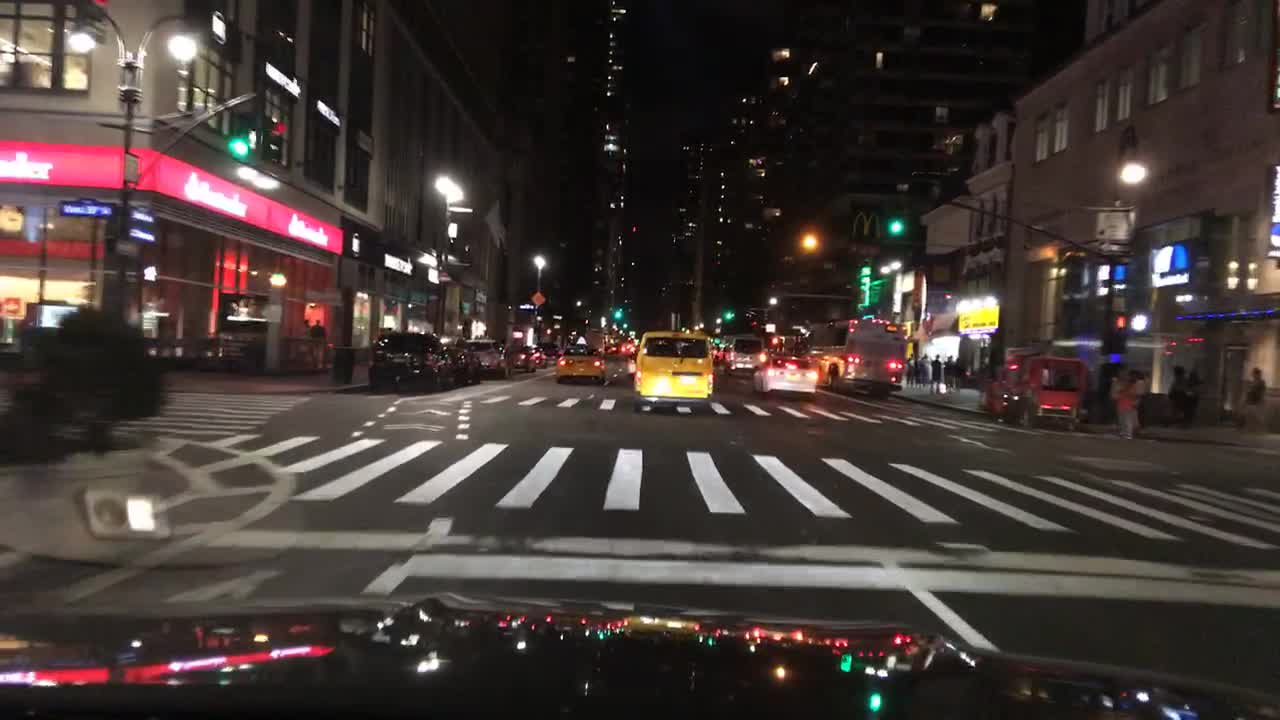bus: (806, 321, 905, 394)
car: (975, 350, 1092, 428), (633, 330, 719, 408), (366, 329, 452, 392), (749, 353, 823, 402), (553, 335, 610, 384), (450, 338, 508, 380), (730, 333, 764, 372), (511, 347, 541, 371), (704, 336, 724, 353), (544, 341, 561, 360), (619, 341, 637, 356), (606, 336, 616, 354)
person: (1166, 364, 1188, 427), (1245, 365, 1263, 424), (1131, 373, 1149, 428), (1119, 378, 1134, 442), (1188, 371, 1203, 428), (314, 318, 324, 367), (944, 355, 955, 395), (920, 350, 931, 389), (911, 350, 920, 389), (955, 358, 964, 393), (301, 319, 314, 337), (907, 355, 911, 389)
traffic light: (265, 120, 287, 153), (226, 134, 247, 156), (884, 213, 904, 236), (142, 262, 162, 285), (931, 352, 941, 394), (1112, 312, 1129, 329), (1130, 311, 1145, 329), (610, 307, 628, 321), (724, 306, 737, 319), (749, 315, 758, 332), (619, 319, 628, 334), (943, 289, 956, 299)
traffic sign: (1096, 212, 1135, 242), (58, 198, 114, 213), (121, 150, 139, 185), (1098, 243, 1130, 259), (128, 207, 155, 224), (710, 344, 730, 362), (129, 228, 155, 241), (531, 291, 545, 306)
